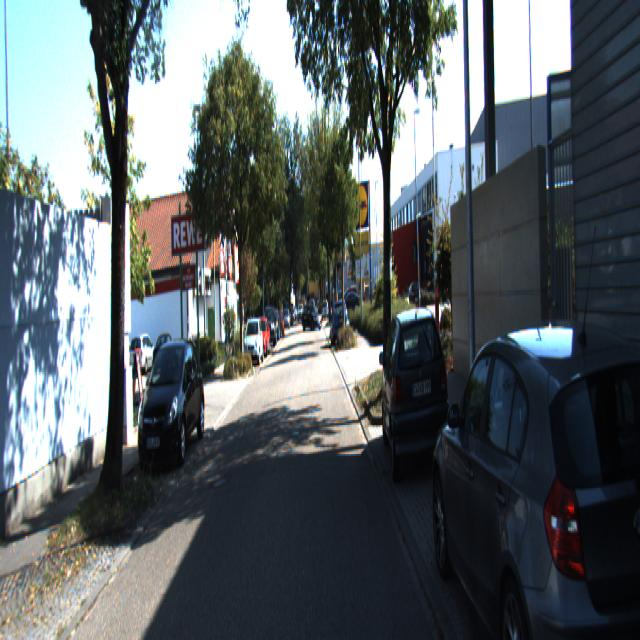Car: (428, 311, 640, 638), (380, 301, 452, 477), (136, 331, 205, 471), (129, 332, 160, 378), (153, 333, 180, 379), (244, 319, 264, 367), (331, 298, 349, 344), (253, 316, 271, 358)
DontCare: (270, 300, 328, 340), (406, 274, 430, 304), (346, 279, 362, 308)
